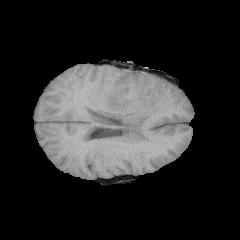glioma: (94, 68, 164, 139)
